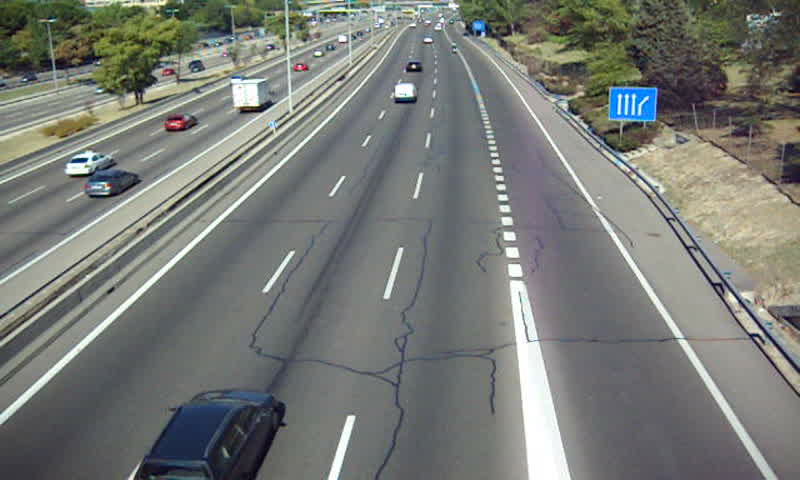car: (137, 390, 279, 480), (405, 60, 423, 73)
van: (393, 83, 416, 103)
